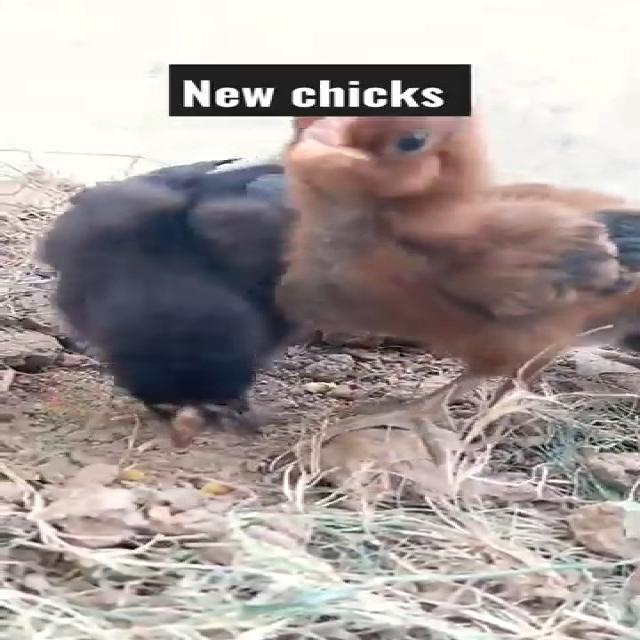stand bath: (53, 102, 359, 442)
